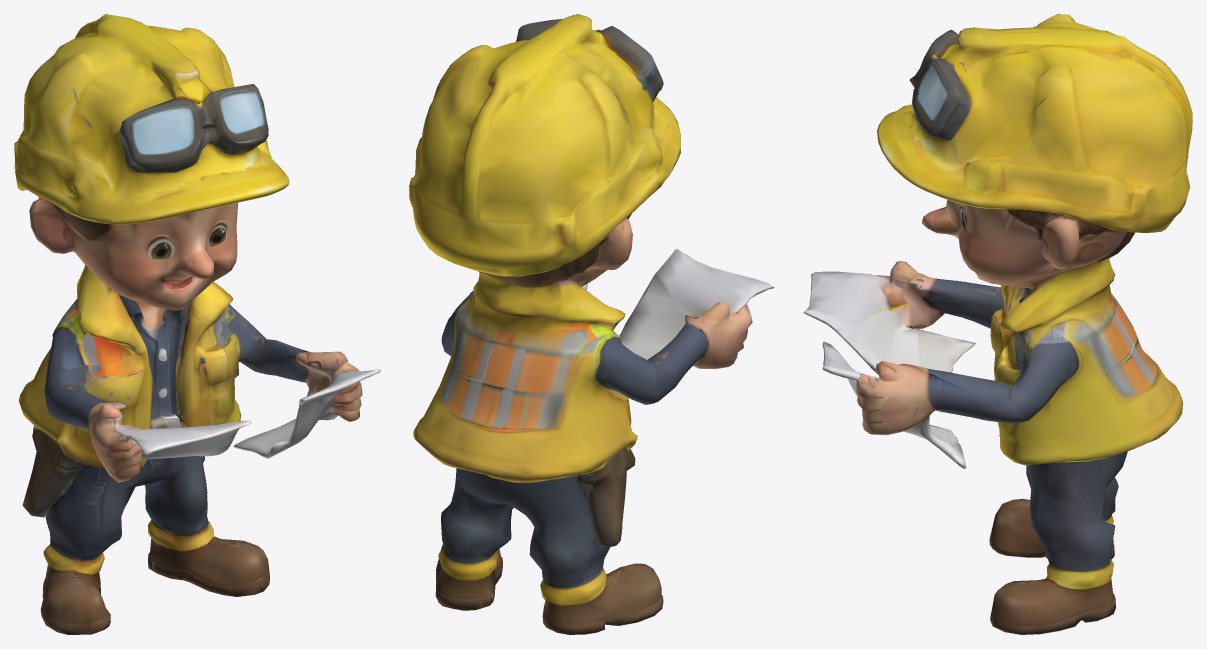
File: engineer.glb
The picture shows the model from 3 angles, left to right: view 1: azimuth 30°, elevation 25°; view 2: azimuth 150°, elevation 25°; view 3: azimuth 270°, elevation 25°; orthographic projection.
Size of the model in its own units: 32002 by 65584 by 42012.
1 material, 1 textured.
